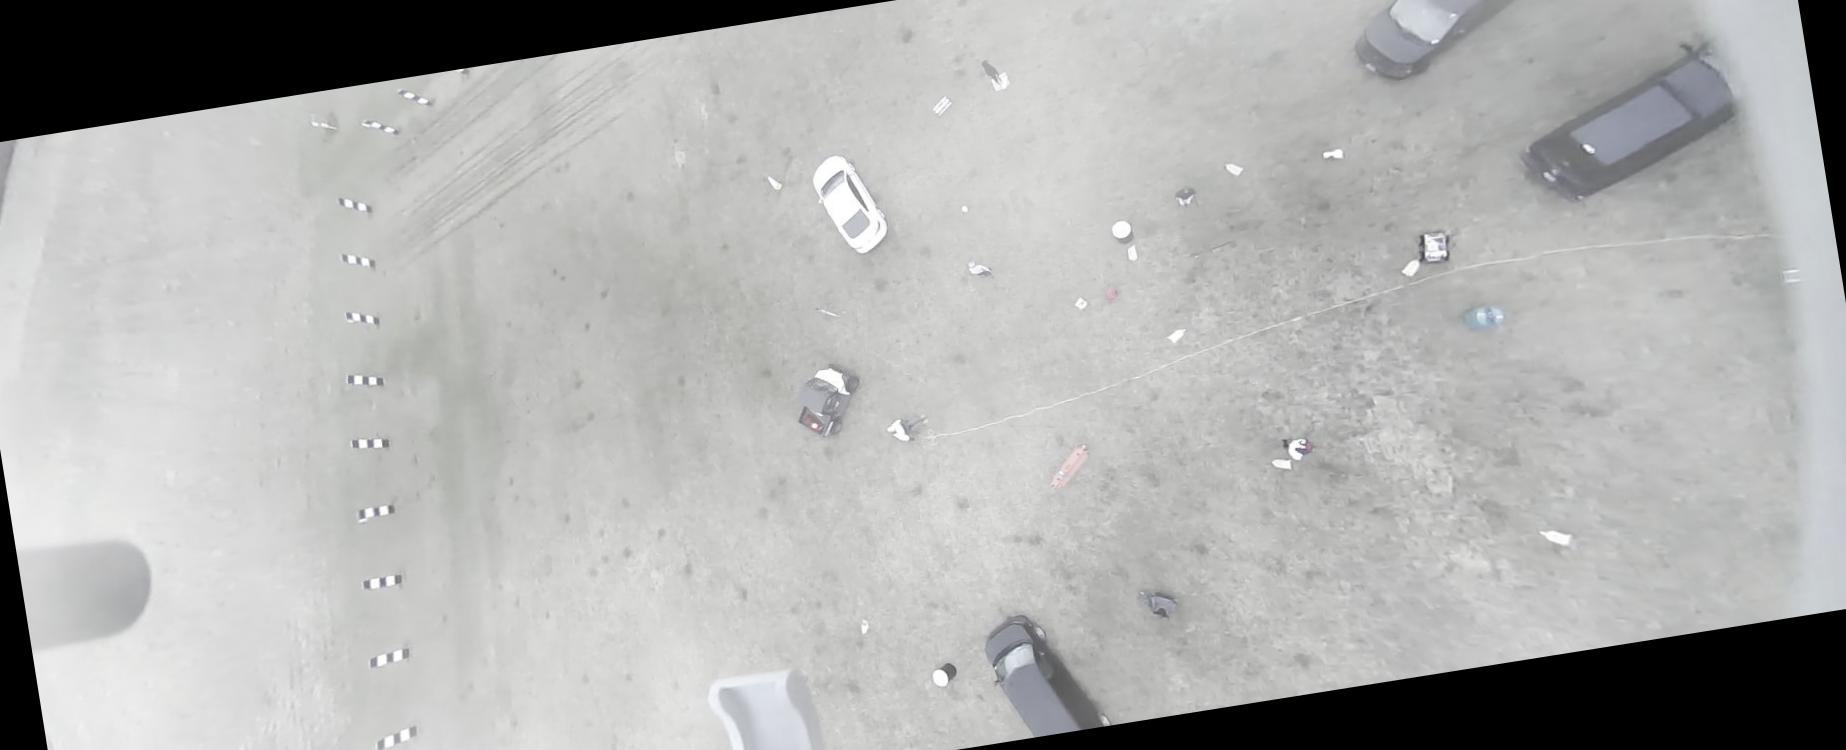vehicle: (1506, 34, 1755, 209), (1334, 0, 1619, 86), (980, 602, 1115, 742), (809, 147, 894, 260), (790, 358, 868, 442)
